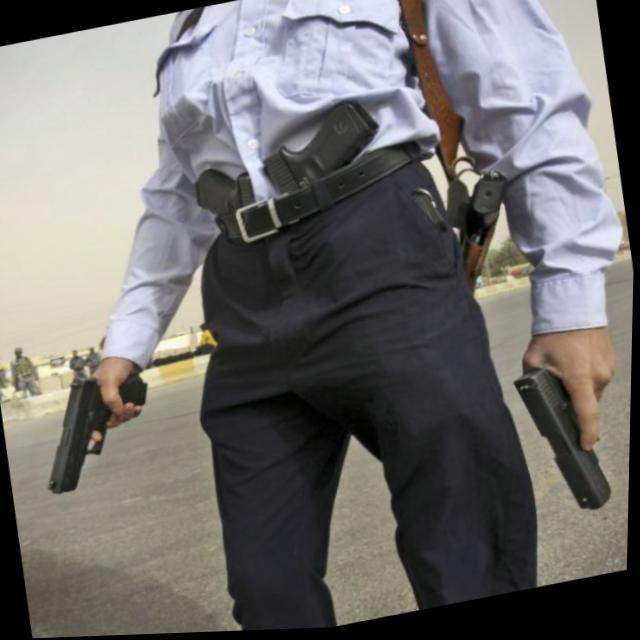weapon: (504, 337, 634, 534), (33, 364, 164, 497)
